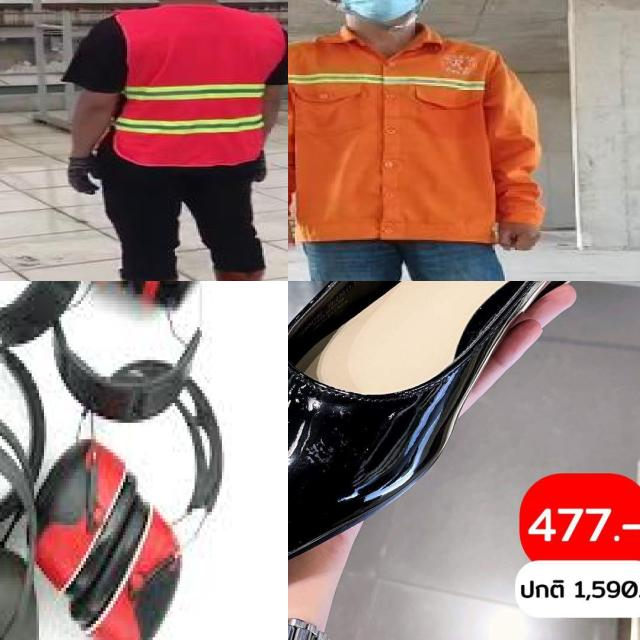Ear-protection: (24, 433, 136, 594), (69, 495, 180, 640), (0, 531, 36, 640)
Sandals: (288, 281, 640, 622)
boots: (198, 264, 272, 281)
face_mask: (330, 0, 425, 16)
hand_glove: (61, 157, 106, 197)
hand_noglove: (486, 213, 547, 256)
person: (288, 0, 596, 281), (56, 0, 288, 281)
vest: (111, 5, 285, 163)
